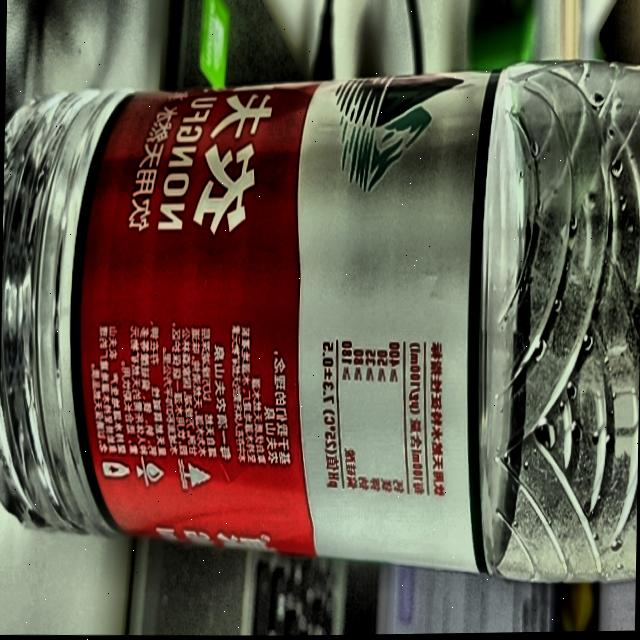plastic: (0, 30, 640, 591)
